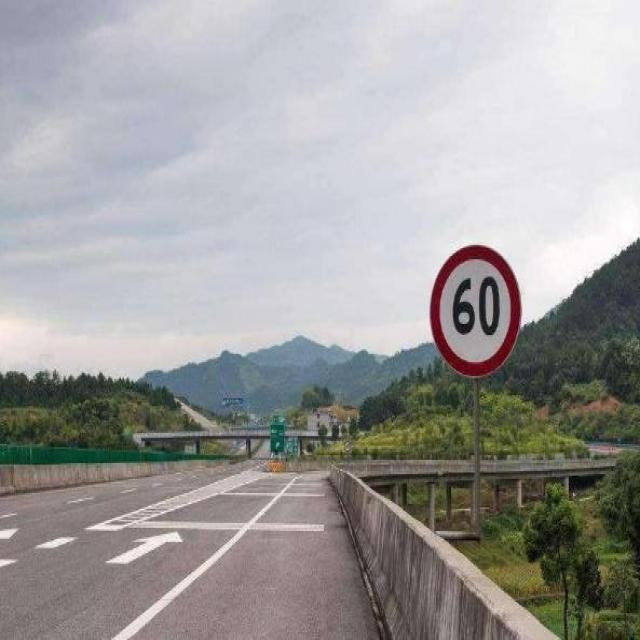speed limit 60: (429, 243, 522, 378)
